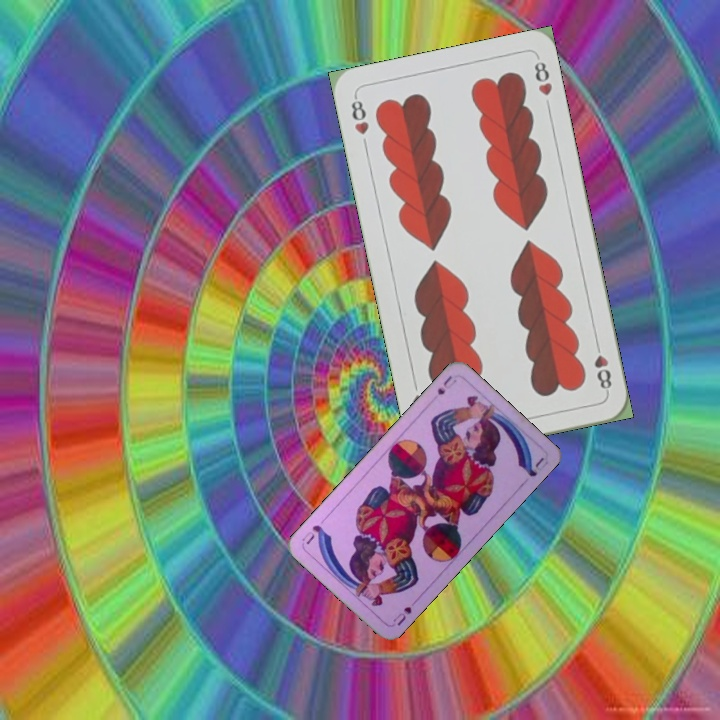H8: (590, 337, 614, 396), (347, 92, 372, 138)
SU: (388, 595, 421, 629), (433, 371, 459, 397)
